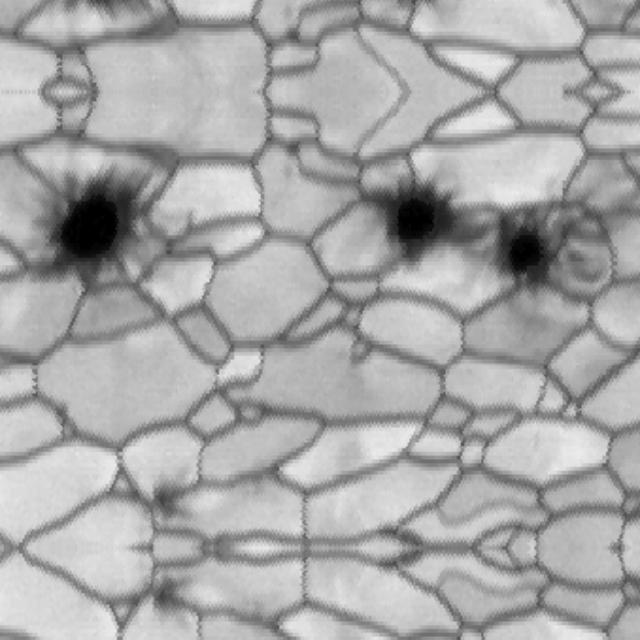good_void: (22, 156, 203, 304), (352, 160, 491, 281), (488, 198, 609, 299), (134, 471, 214, 528), (134, 570, 214, 627), (270, 134, 309, 169), (270, 15, 309, 50)
